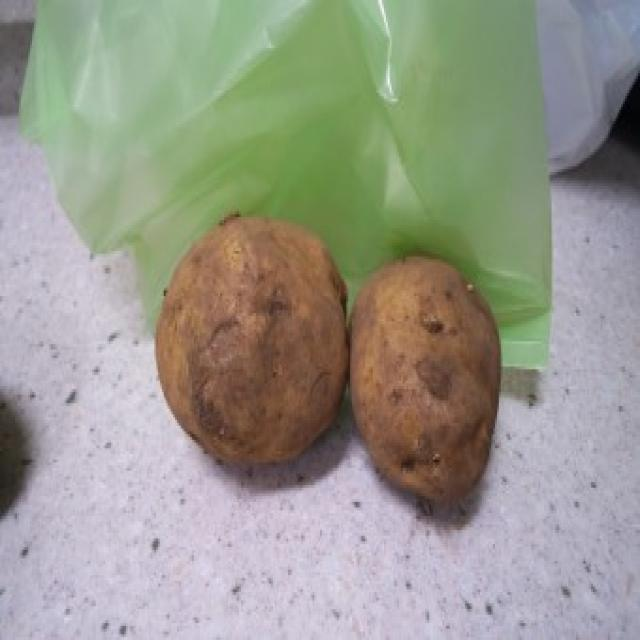potato: (150, 202, 356, 478), (346, 242, 504, 516)
